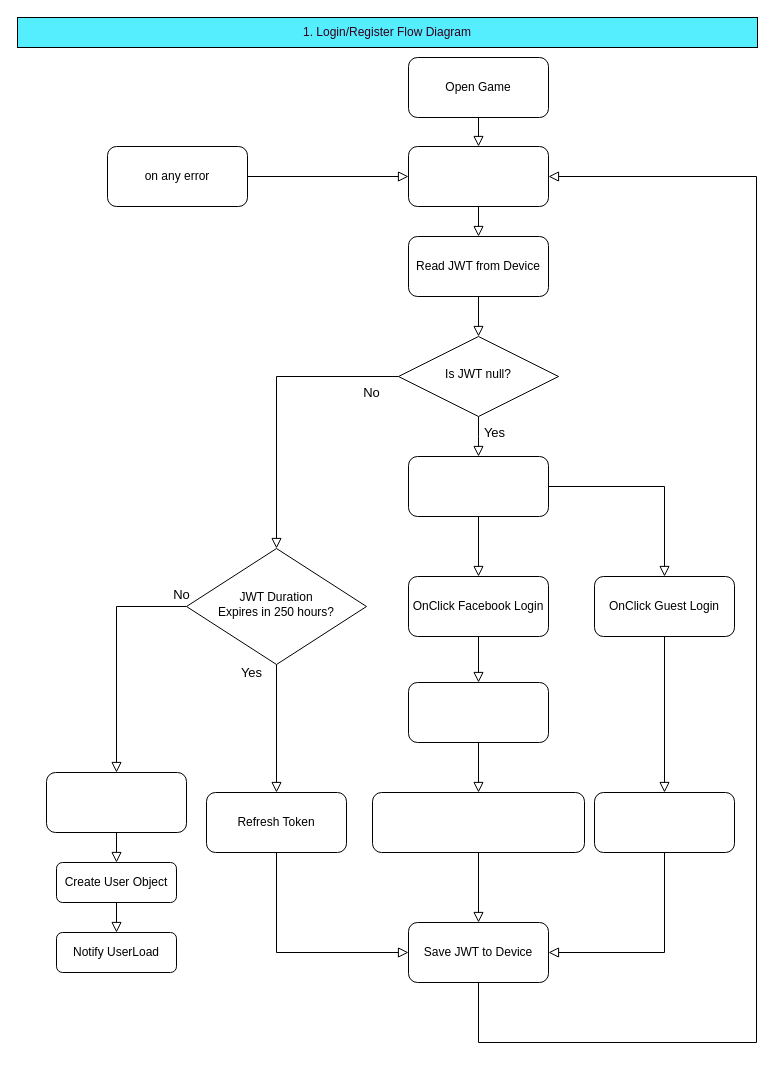
This 784x1070 diagram has some shape labels left out. Each missing label, with the box of its shape:
Create new User Request with FacebookId (or get JWT if already registered): (372, 792, 584, 852)
Create new User Request with GuestId(userId): (594, 792, 734, 852)
Get User Information from Facebook: (408, 682, 548, 742)
Get user Information with JWT: (46, 772, 186, 832)
Show Loading Screen: (408, 146, 548, 206)
Show Login Screen: (408, 456, 548, 516)
